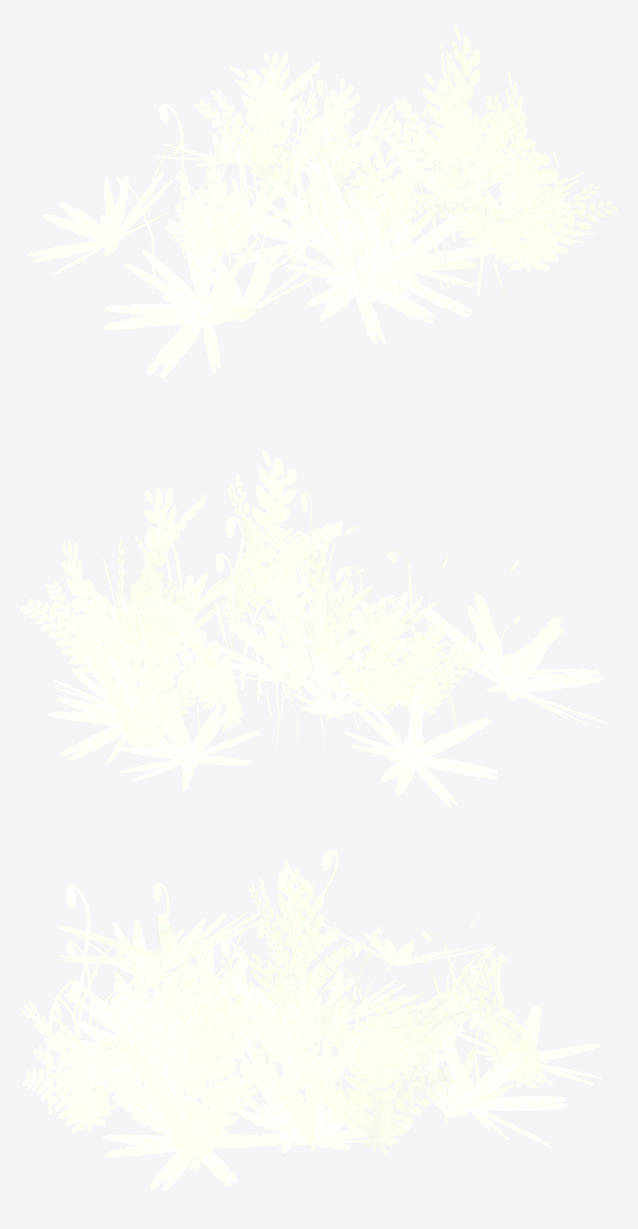
The picture shows the model from 3 angles, top to bottom: view 1: azimuth 30°, elevation 25°; view 2: azimuth 150°, elevation 25°; view 3: azimuth 270°, elevation 25°; orthographic projection. The views are drawn at different scales.
Parts seen in each view (by area): view 1: SM_BM_Moss_Sprigs_01_LOD0; view 2: SM_BM_Moss_Sprigs_01_LOD0; view 3: SM_BM_Moss_Sprigs_01_LOD0.
Part boxes in pixels (bbox=[...]): SM_BM_Moss_Sprigs_01_LOD0: bbox=[27, 24, 618, 377]; SM_BM_Moss_Sprigs_01_LOD0: bbox=[20, 450, 607, 807]; SM_BM_Moss_Sprigs_01_LOD0: bbox=[21, 849, 602, 1190].
Size of the model in its own units: 0.1282 by 0.0489 by 0.1166.
Materials: 1 (1 with a texture image).
